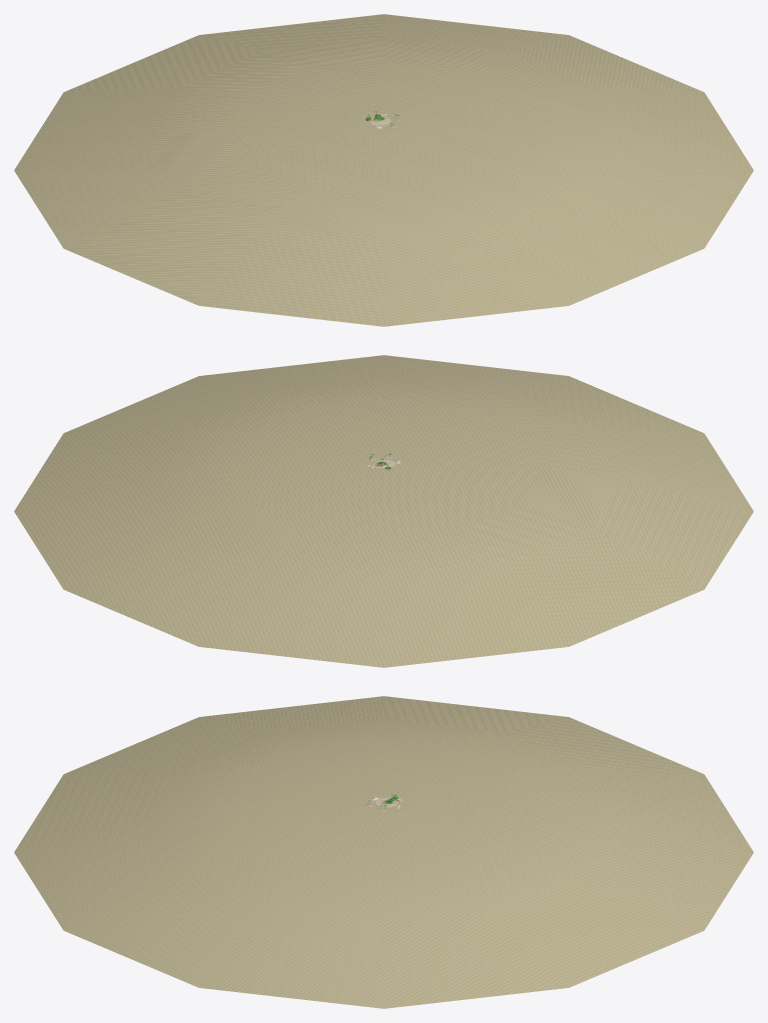
File: SunsetIsles.obj
The picture shows the model from 3 angles, top to bottom: view 1: azimuth 30°, elevation 25°; view 2: azimuth 150°, elevation 25°; view 3: azimuth 270°, elevation 25°; orthographic projection.
Bounding box in the file's own units: 19587 × 1651 × 19587.
8 materials, 8 textured.
